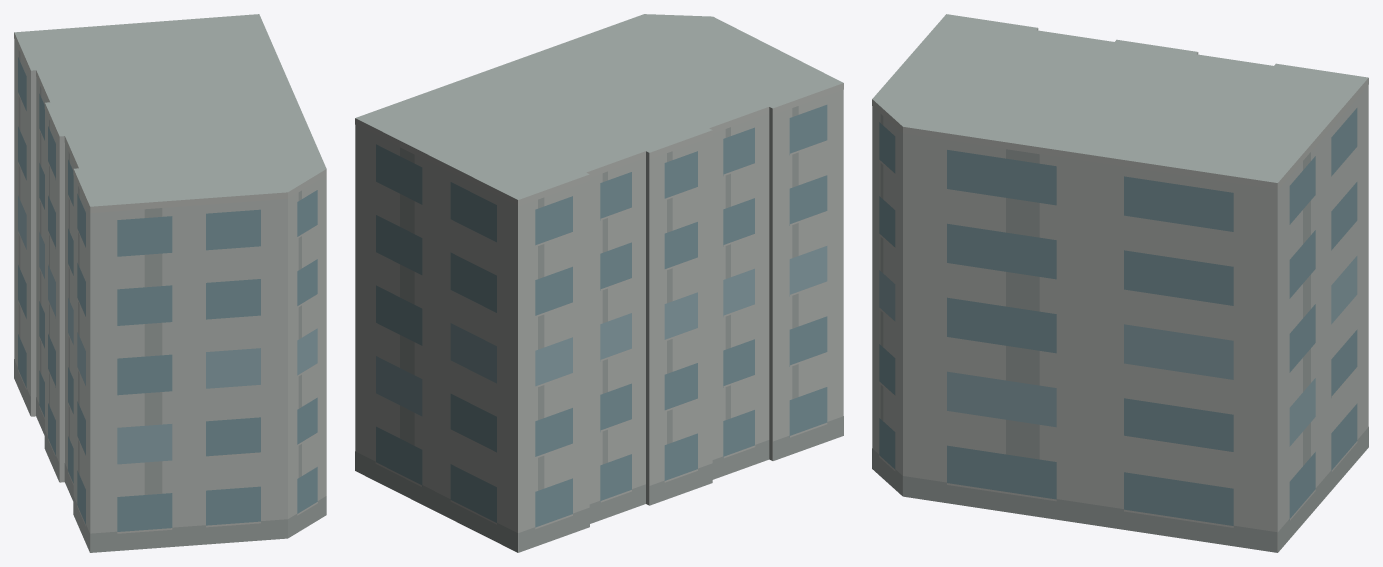
The model's file is survey-upis-32894461.glb.
The picture shows the model from 3 angles, left to right: view 1: azimuth 30°, elevation 25°; view 2: azimuth 150°, elevation 25°; view 3: azimuth 270°, elevation 25°; orthographic projection. The views are drawn at different scales.
Parts seen in each view (by area): view 1: survey-upis-32894461.tmp; view 2: survey-upis-32894461.tmp; view 3: survey-upis-32894461.tmp.
Boxes of the visible parts, <box> form: survey-upis-32894461.tmp: <box>14,14,326,552</box>; survey-upis-32894461.tmp: <box>355,14,843,552</box>; survey-upis-32894461.tmp: <box>872,14,1368,552</box>.
Size of the model in its own units: 12.76 by 13 by 15.83.
